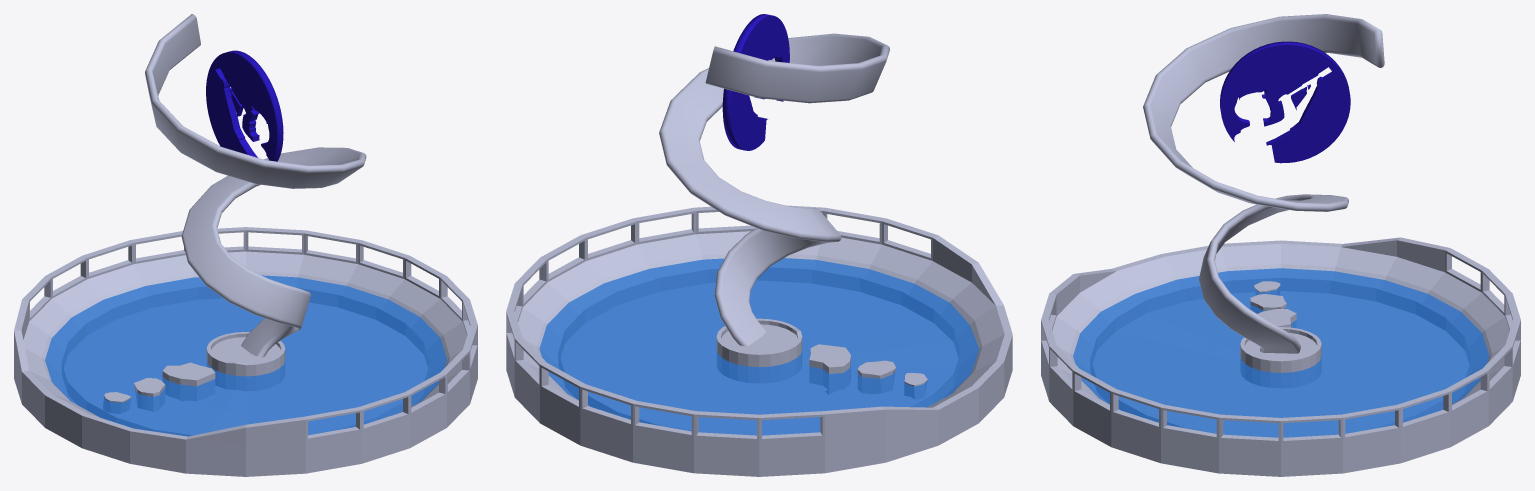
File: BlueSkyStatue.glb
The picture shows the model from 3 angles, left to right: view 1: azimuth 30°, elevation 25°; view 2: azimuth 150°, elevation 25°; view 3: azimuth 270°, elevation 25°; orthographic projection. The views are drawn at different scales.
Parts seen in each view (by area): view 1: statue; view 2: statue; view 3: statue.
Boxes of the visible parts, x1,y1,x2,y2 form: statue: [14, 14, 477, 476]; statue: [506, 14, 1012, 476]; statue: [1041, 14, 1520, 476].
Size of the model in its own units: 5.99 by 4.74 by 5.99.
